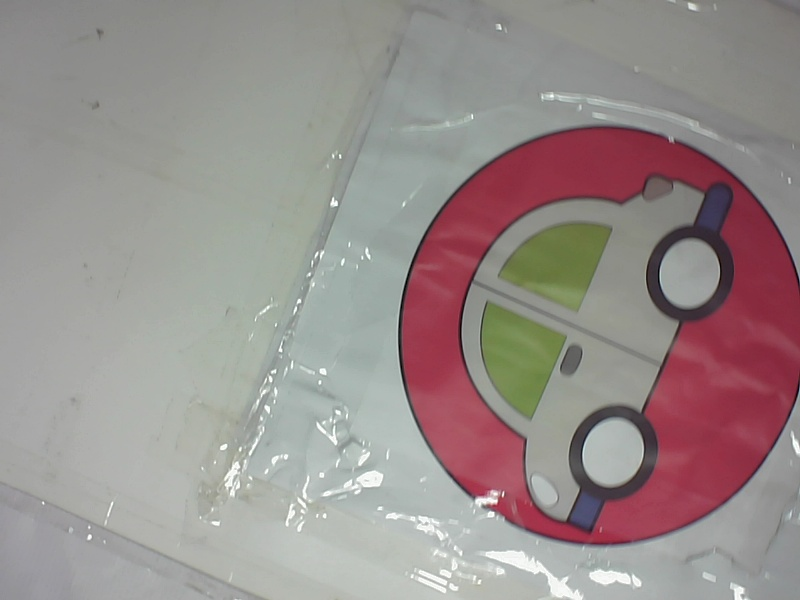areaC: (395, 118, 799, 555)
